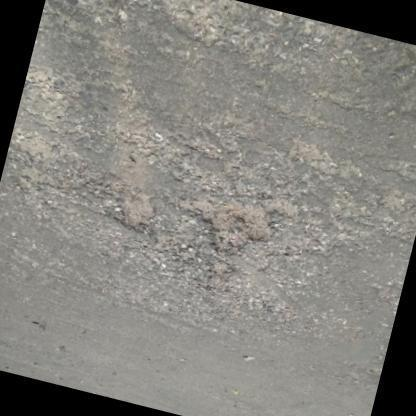pothole: (176, 192, 301, 258), (86, 165, 166, 246), (171, 0, 265, 57), (14, 130, 73, 194), (23, 62, 72, 124), (371, 183, 416, 248), (290, 132, 339, 178), (182, 132, 226, 168), (203, 257, 239, 299)
